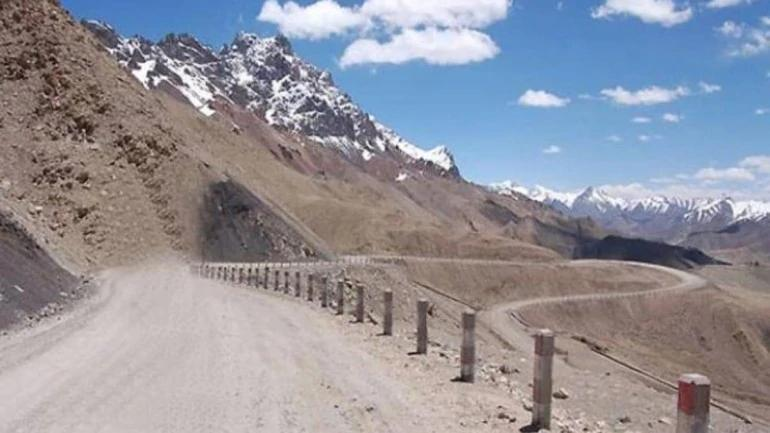streetPlate: (522, 320, 564, 433), (672, 363, 719, 433), (448, 304, 484, 389), (374, 277, 400, 350), (409, 285, 434, 360), (327, 269, 350, 322), (349, 272, 365, 338)
